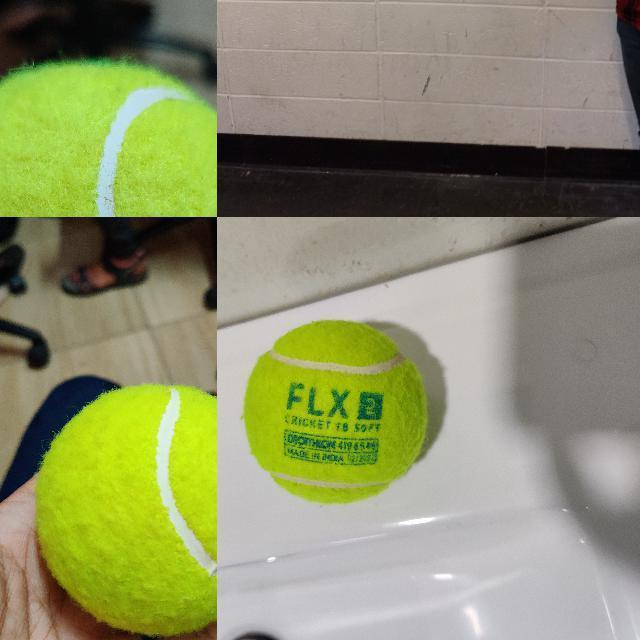tennis-ball: (38, 385, 216, 634), (240, 320, 428, 505), (0, 63, 216, 216)
